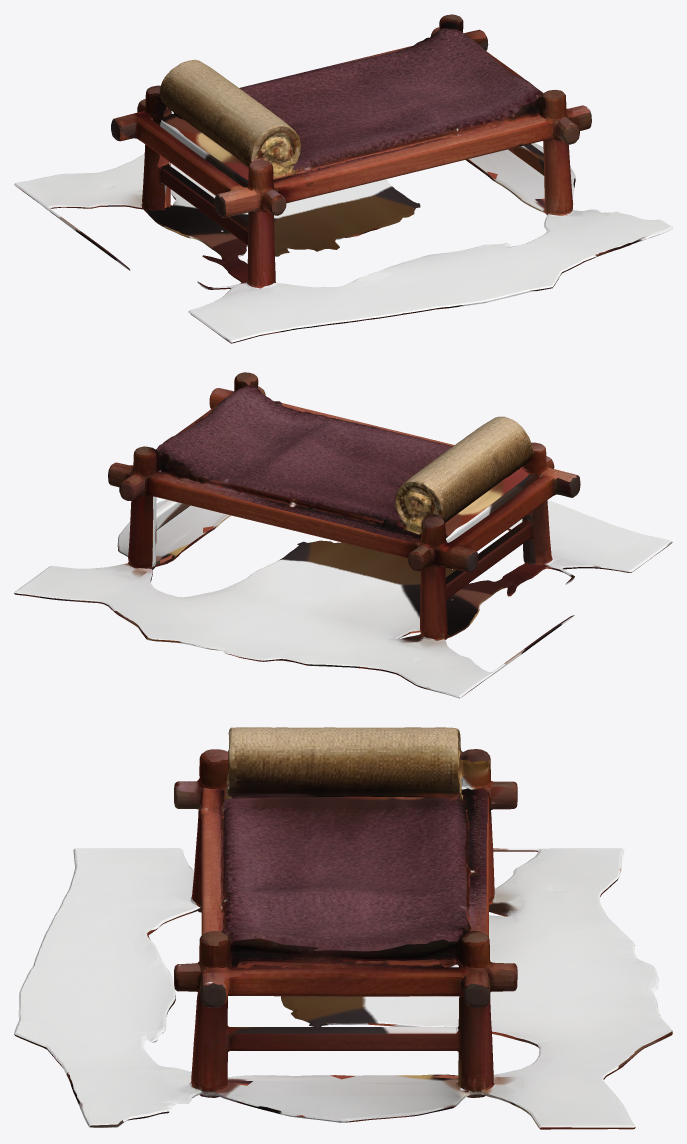
The model's file is beiden_cave_bandit_folding_cot.glb.
The picture shows the model from 3 angles, top to bottom: view 1: azimuth 30°, elevation 25°; view 2: azimuth 150°, elevation 25°; view 3: azimuth 270°, elevation 25°; orthographic projection. The views are drawn at different scales.
Visible parts, largest first — view 1: temp_mesh.ply; view 2: temp_mesh.ply; view 3: temp_mesh.ply.
Boxes of the visible parts, bbox=[...] form: temp_mesh.ply: bbox=[14, 14, 672, 343]; temp_mesh.ply: bbox=[14, 372, 672, 698]; temp_mesh.ply: bbox=[14, 727, 672, 1129].
Size of the model in its own units: 1.97 by 0.6454 by 1.97.
Materials: 1 (1 with a texture image).
